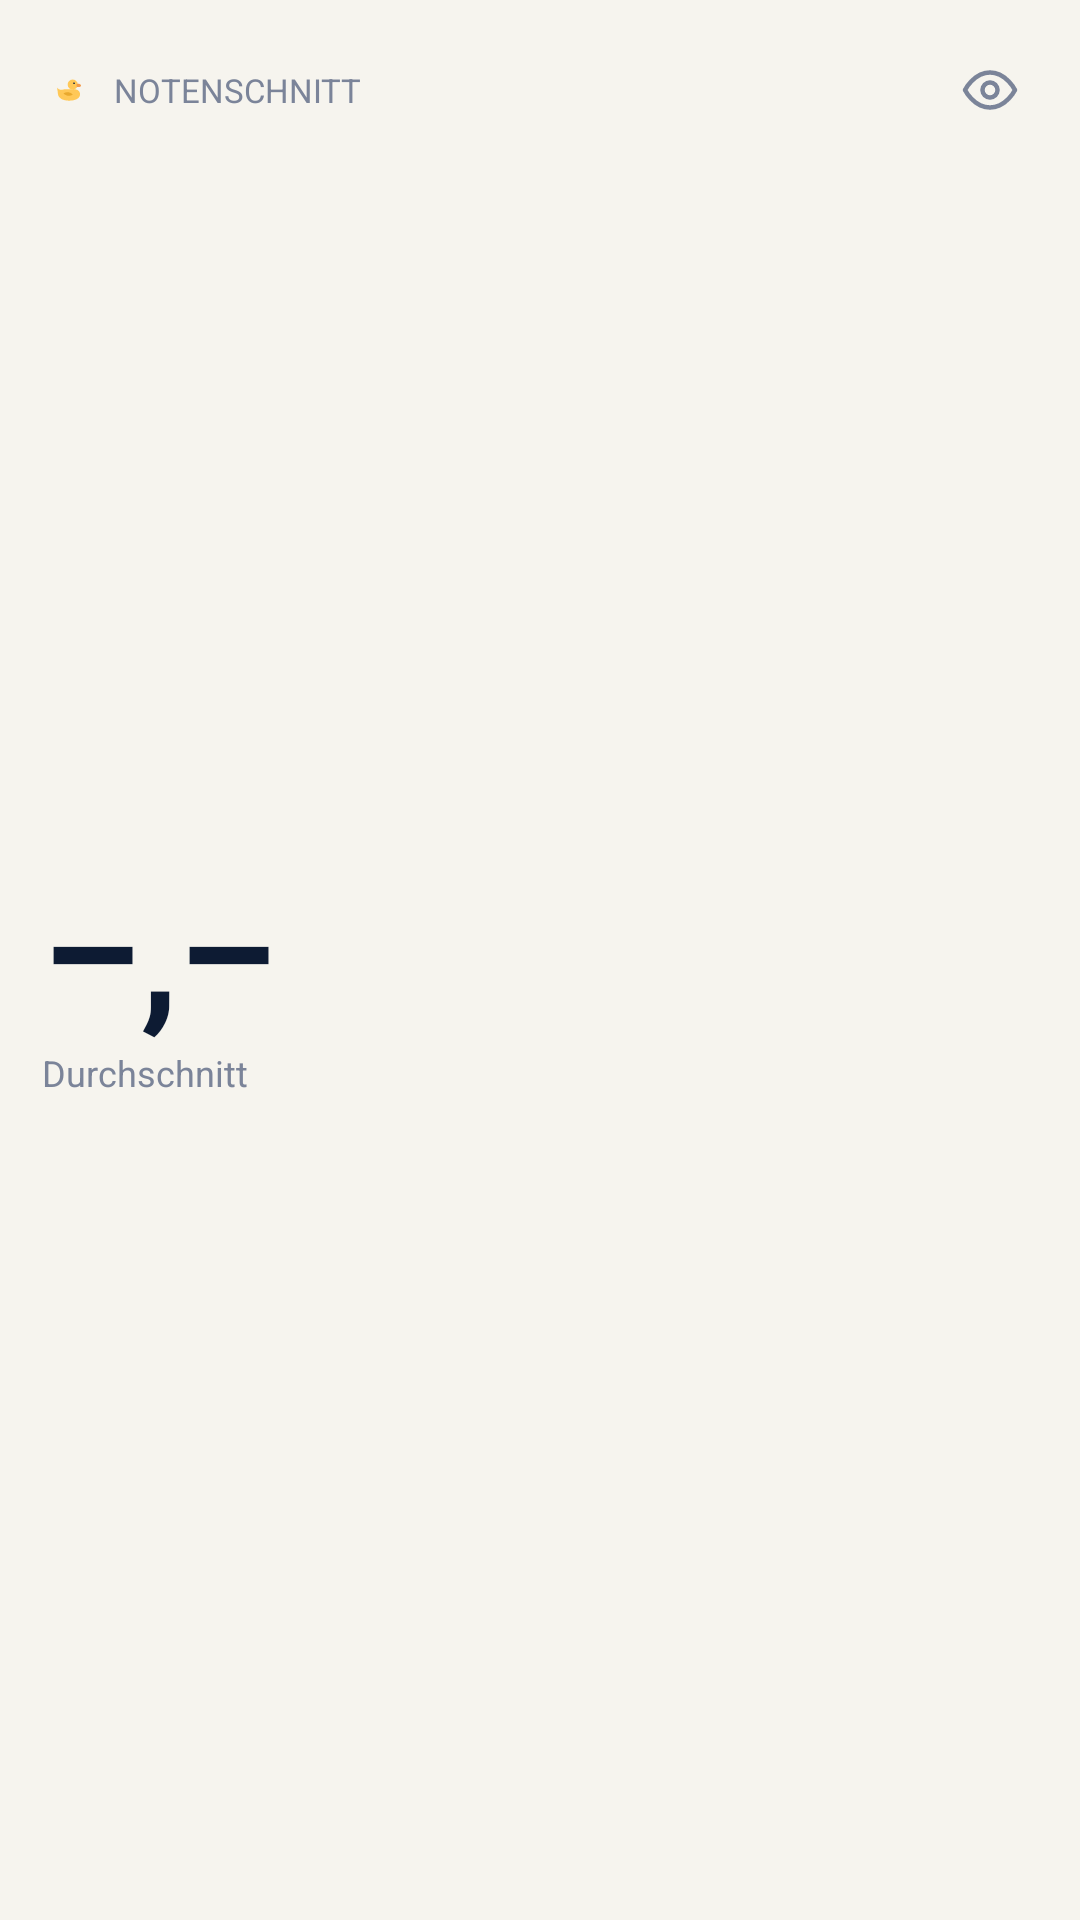

Screen size 1080*1920. Icon name, then its box in pixels as bbox(x1, y1, x2, y2):
Noten ein- oder ausblenden: bbox(963, 70, 1017, 110)
